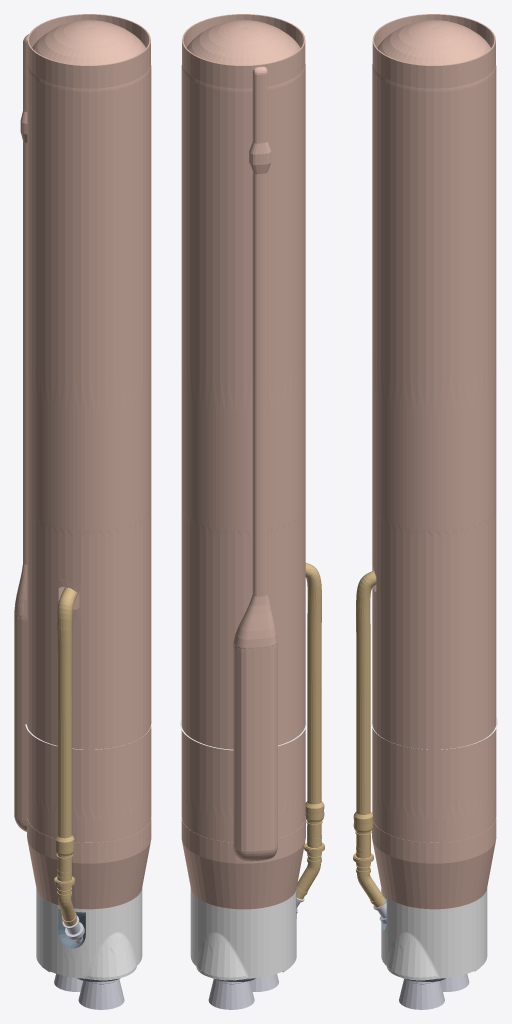
The model's file is atlas_v_core_stage.glb.
3 renders of one model, left to right at view 1: azimuth 30°, elevation 25°; view 2: azimuth 150°, elevation 25°; view 3: azimuth 330°, elevation 25°, orthographic.
Visible parts, largest first — view 1: part_5, part_4, part_3, part_6, part_0; view 2: part_5, part_4, part_3, part_6; view 3: part_5, part_4, part_3, part_6.
Part boxes in pixels (x1,y1,x2,y2): part_5: (14, 14, 151, 909); part_4: (25, 721, 151, 980); part_3: (54, 587, 77, 926); part_6: (54, 915, 124, 1009); part_0: (58, 908, 85, 948); part_5: (181, 14, 305, 909); part_4: (180, 719, 306, 980); part_3: (296, 563, 324, 899); part_6: (208, 898, 304, 1009); part_5: (372, 14, 496, 909); part_4: (371, 717, 497, 980); part_3: (353, 570, 385, 907); part_6: (373, 898, 469, 1009).
Bounding box in the file's own units: 3.97 × 32.89 × 3.97.
